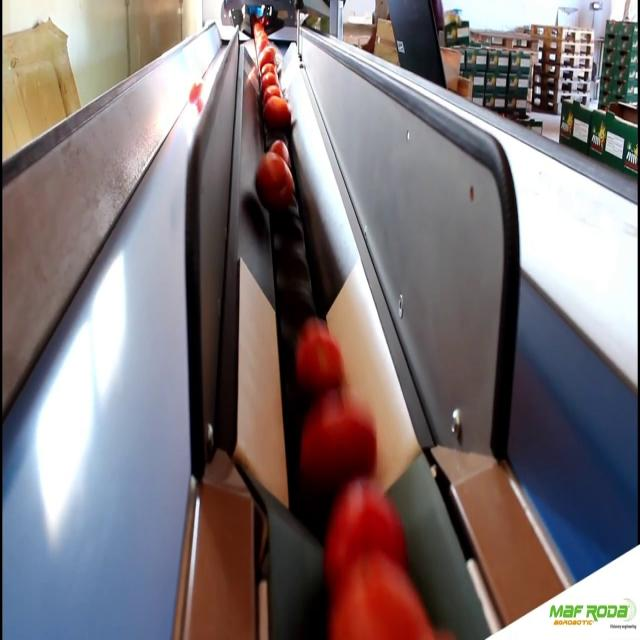Tomato: (340, 550, 432, 640), (302, 397, 388, 478), (330, 486, 403, 550), (294, 317, 353, 395), (252, 150, 293, 204), (260, 96, 296, 140), (190, 78, 208, 112), (270, 136, 288, 164), (256, 49, 278, 70), (261, 88, 284, 102), (260, 76, 278, 85)
